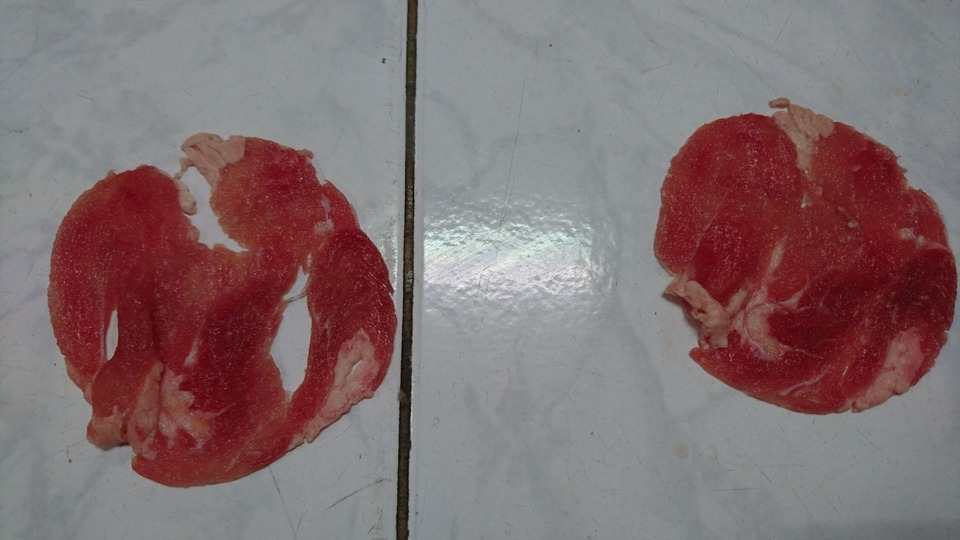restructured meat: (32, 133, 416, 491), (656, 105, 958, 425)
